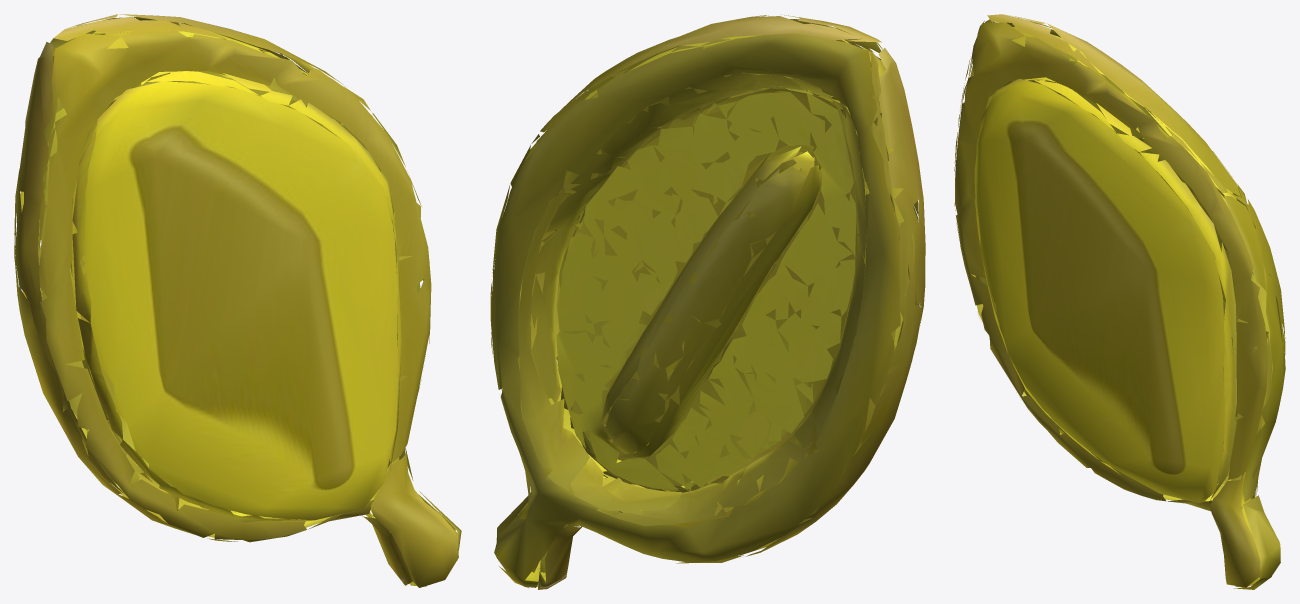
The model's file is goldenleaf.glb.
The picture shows the model from 3 angles, left to right: view 1: azimuth 30°, elevation 25°; view 2: azimuth 150°, elevation 25°; view 3: azimuth 330°, elevation 25°; orthographic projection. The views are drawn at different scales.
Bounding box in the file's own units: 0.0802 × 0.1139 × 0.0169.
1 material, 1 textured.
